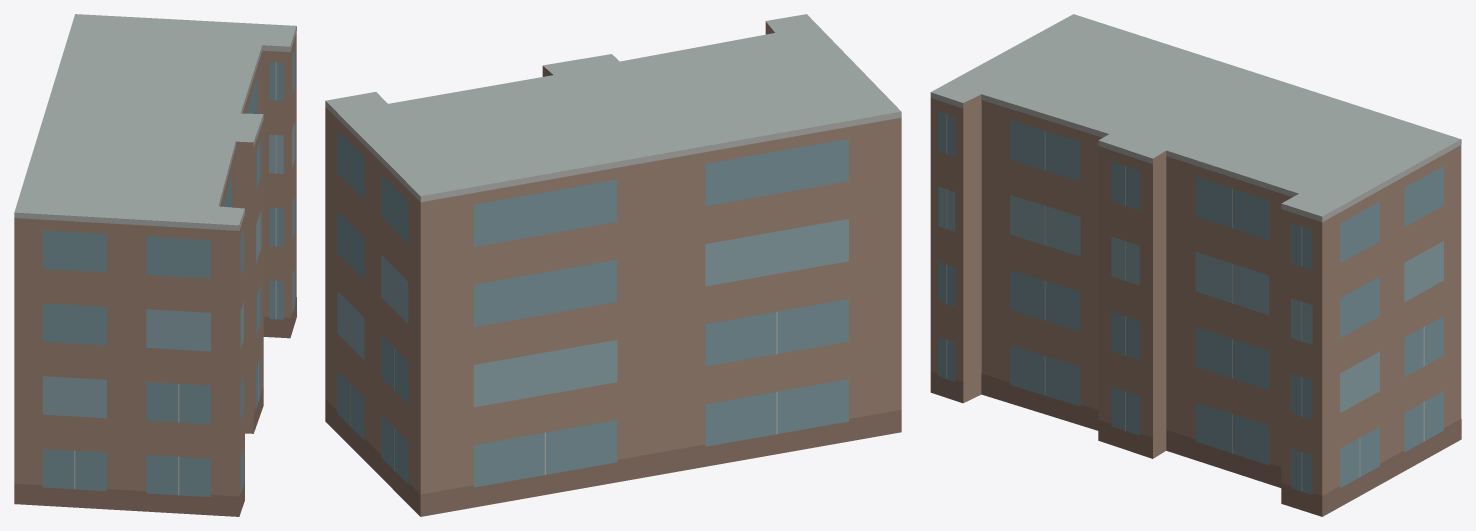
Rendered from survey-upis-32807201.glb.
3 views of the same model, side by side, from view 1: azimuth 30°, elevation 25°; view 2: azimuth 150°, elevation 25°; view 3: azimuth 270°, elevation 25° (orthographic). The views are drawn at different scales.
Parts seen in each view (by area): view 1: survey-upis-32807201.tmp; view 2: survey-upis-32807201.tmp; view 3: survey-upis-32807201.tmp.
Boxes of the visible parts, left/top/right/bottom form: survey-upis-32807201.tmp: left=14, top=14, right=296, bottom=516; survey-upis-32807201.tmp: left=325, top=14, right=901, bottom=516; survey-upis-32807201.tmp: left=930, top=14, right=1461, bottom=516.
Size of the model in its own units: 18.9 by 13.05 by 20.92.
